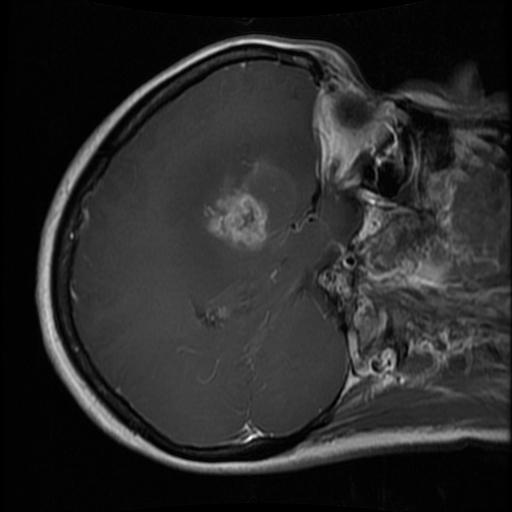glioma: (202, 162, 267, 256)
